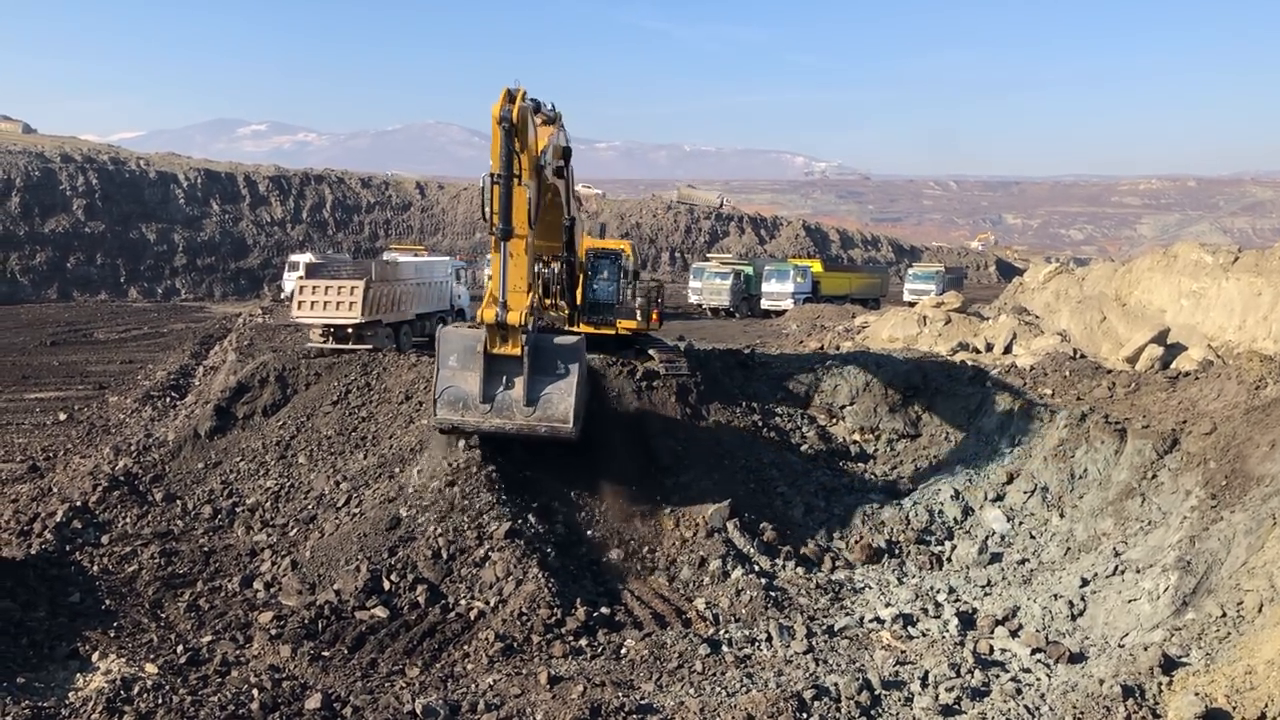full: (432, 309, 588, 443)
